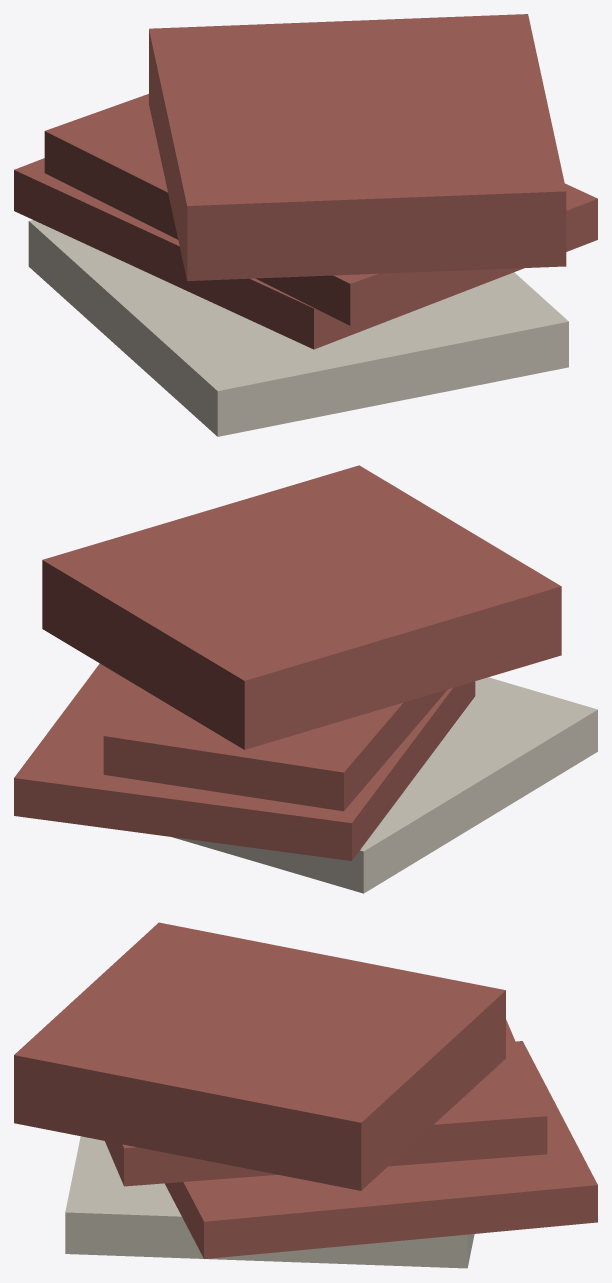
Rendered from mov_375a866384.gltf.
The picture shows the model from 3 angles, top to bottom: view 1: azimuth 30°, elevation 25°; view 2: azimuth 150°, elevation 25°; view 3: azimuth 270°, elevation 25°; orthographic projection. The views are drawn at different scales.
Visible parts, largest first — view 1: mov_375a866384; view 2: mov_375a866384; view 3: mov_375a866384.
Boxes of the visible parts, x1,y1,x2,y2 form: mov_375a866384: [14, 14, 597, 436]; mov_375a866384: [14, 465, 597, 893]; mov_375a866384: [14, 922, 597, 1268].
Bounding box in the file's own units: 0.2909 × 0.1242 × 0.3548.
